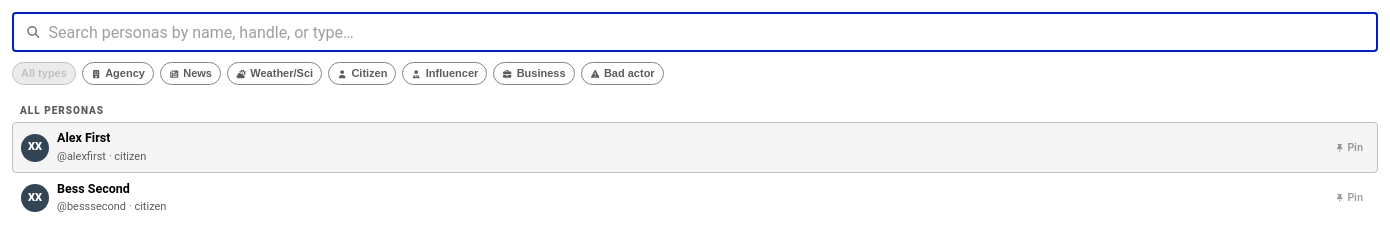
PersonaPicker — no-match empty state › renders the empty message and zero options when the search matches nothing
Type "zzz-no-such-persona" into the field with test id "persona-picker-search".
click(713, 32); type("zzz-no-such-persona")  # box [49,12,1378,52]
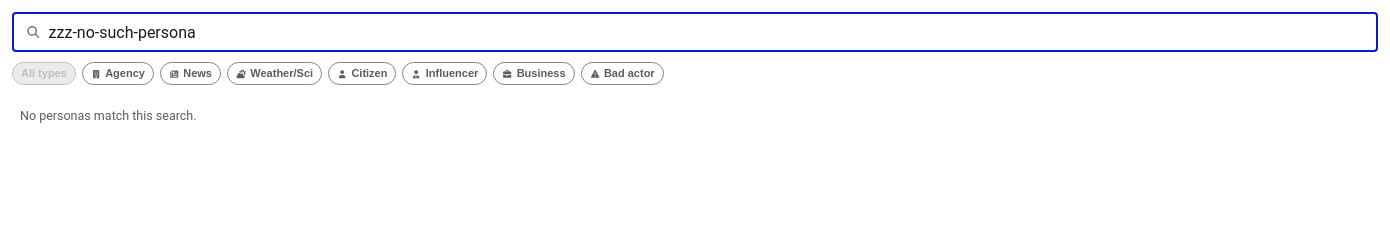
expect the text "No personas match this search." is shown: met, box [20,108,196,123]
expect no options are shown: met
